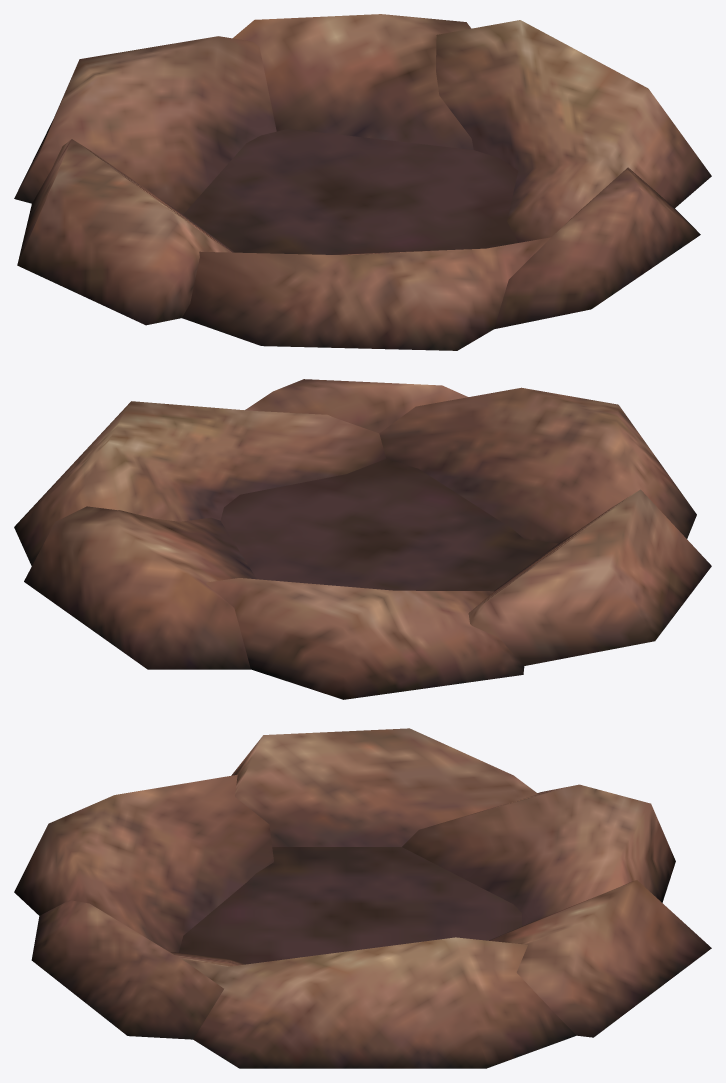
Rendered from StakeBase.fbx.
3 views of the same model, one above another, from view 1: azimuth 30°, elevation 25°; view 2: azimuth 150°, elevation 25°; view 3: azimuth 270°, elevation 25° (orthographic). The views are drawn at different scales.
Visible parts, largest first — view 1: StakeBase__BodyMT; view 2: StakeBase__BodyMT; view 3: StakeBase__BodyMT.
Boxes of the visible parts, box(x1,y1,x2,y2) form: StakeBase__BodyMT: box(14, 14, 711, 350); StakeBase__BodyMT: box(14, 379, 711, 699); StakeBase__BodyMT: box(14, 728, 711, 1068).
Bounding box in the file's own units: 127 × 18.84 × 129.
1 material, 1 textured.
